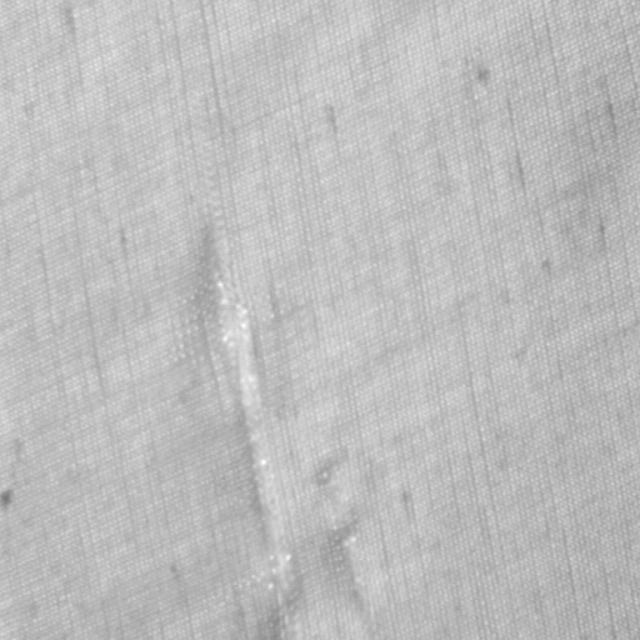thread error: (194, 200, 308, 639)
